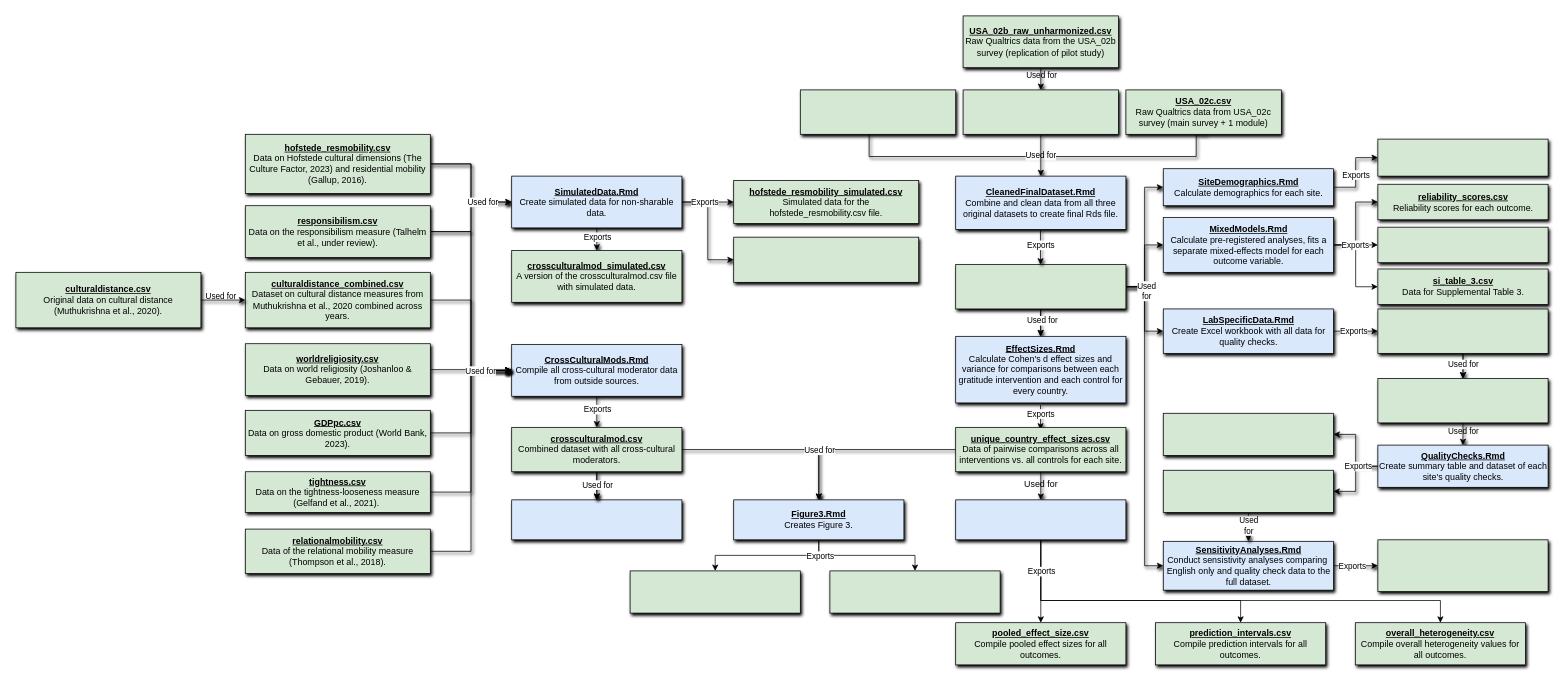
This 1566x683 diagram has some shape labels left out. Here are the shapes that lost their labels. From the top down, the centre of each, then its label:
(878,112): globalgratitude_final.Rds Raw Qualtrics data from main survey
(1041,112): USA_02b_raw_harmonized.csv Harmonized to match with global_gratitude_final.Rds
(1463,158): si_table_1.csv Data for Supplemental Table 1.
(826,260): responsibilism_simulated.csv Simulated data for the responsibilism.csv file.
(1463,245): si_regression_ouput.csv Data for Supplemental Information.
(1041,287): globalgratitude_final_cleaned.Rds Final dataset used for all data analysis.
(1463,332): labspecific_data.xlsx Excel workbook with survey responses divided by site.
(1463,401): qualitychecks.xlxs Excel workbook with completed quality checks.
(1249,435): qualitychecks_summary.xlsx Summary table of quality checks.
(1249,492): QC_globalgratitude_final_cleaned.Rds Dataset with problematic data removed.
(597,520): Figure1.Rmd Creates Figure 1.
(1041,520): Figure2.Rmd Creates Figure 2.
(1463,566): si_table_4.csv Data for Supplemental Table 4.
(715,592): cultural_consistency.csv Compile pooled effect sizes for all outcomes.
(915,592): moderators.csv Compile pooled effect sizes for all outcomes.
